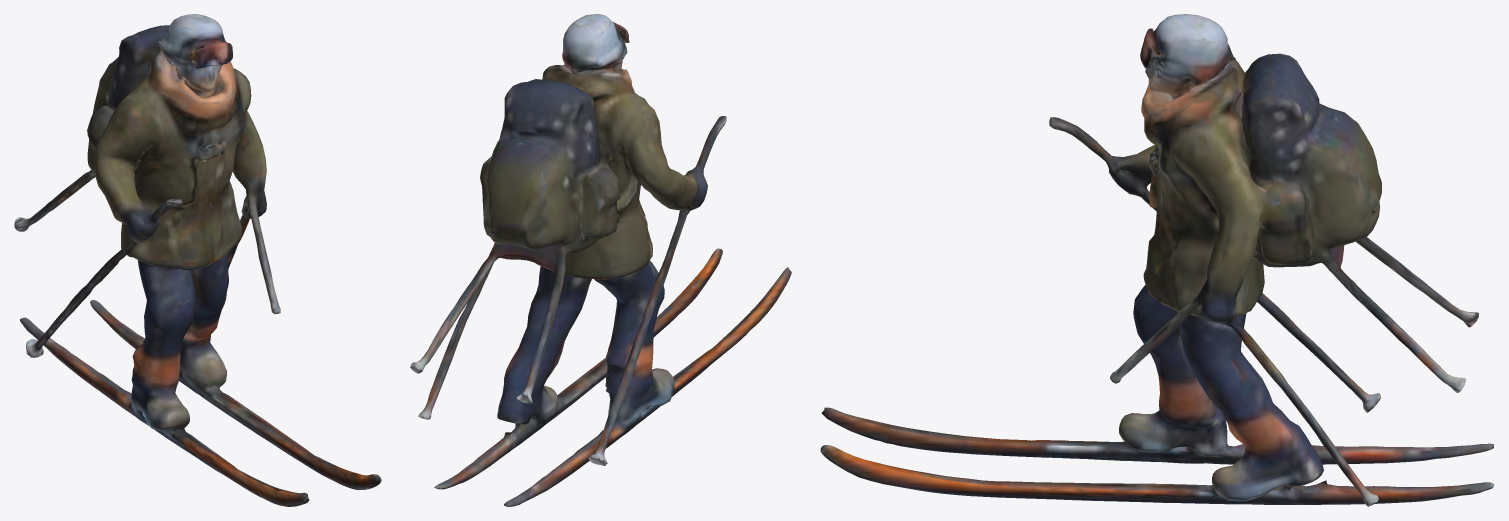
File: kit_erzurum_skier_a.glb
The picture shows the model from 3 angles, left to right: view 1: azimuth 30°, elevation 25°; view 2: azimuth 150°, elevation 25°; view 3: azimuth 270°, elevation 25°; orthographic projection. The views are drawn at different scales.
Visible parts, largest first — view 1: Mesh_0; view 2: Mesh_0; view 3: Mesh_0.
Part boxes in pixels (x1,y1,x2,y2): Mesh_0: (14, 14, 381, 506); Mesh_0: (410, 14, 791, 506); Mesh_0: (820, 14, 1494, 506).
Size of the model in its own units: 0.8969 by 1.8 by 2.34.
Materials: 1 (1 with a texture image).
